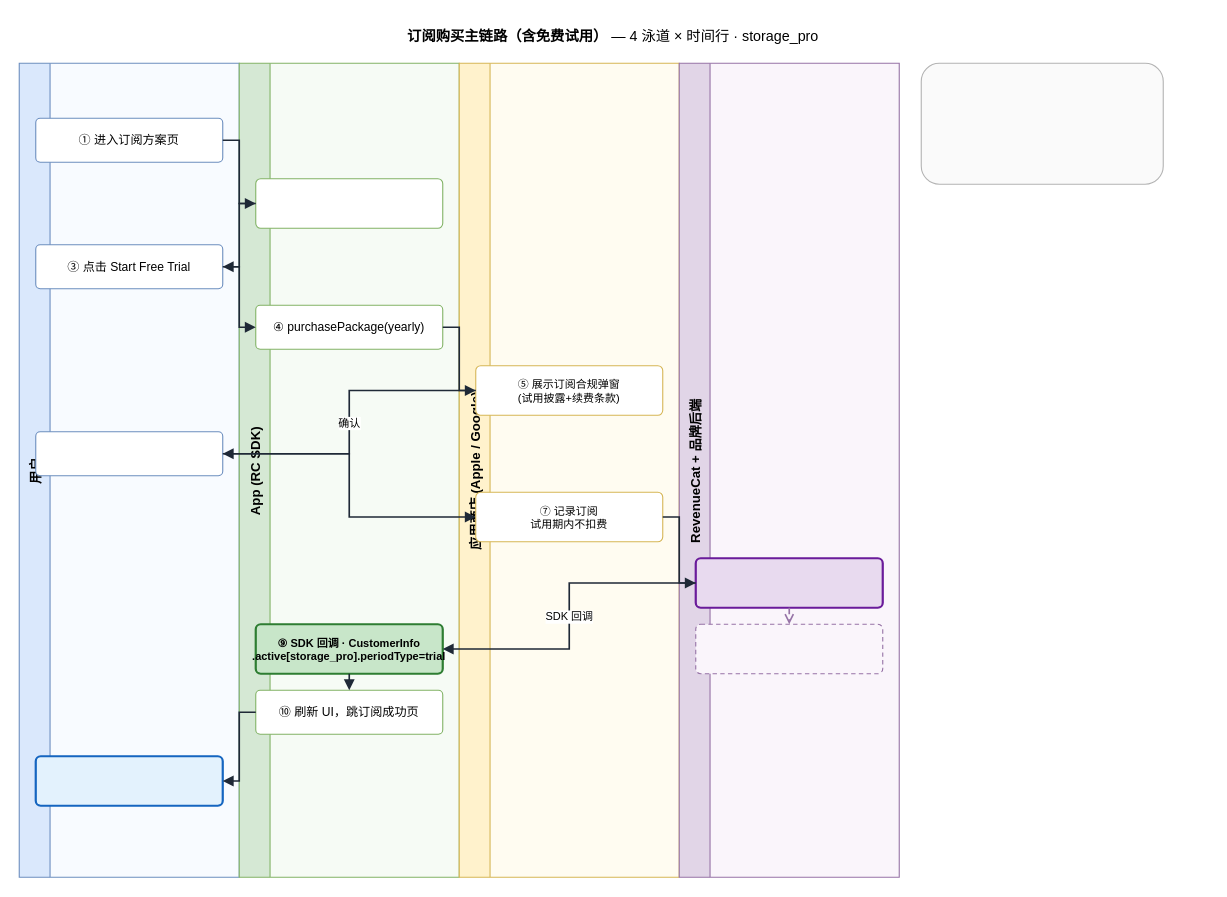
This 1227x897 diagram has some shape labels left out. The centre of each missing label's shape, as x and y in pixels:
"② 展示月/年方案 + 7天试用标签 (getOfferings())" belongs at (349,203).
"⑥ 确认订阅" belongs at (129,453).
"⑧ RC 授予 storage_pro entitlement (试用期)" belongs at (788,582).
"⑧′ 并行 · Webhook INITIAL_PURCHASE → 入库" belongs at (789,648).
"⑪ 看到 试用已开始 + 首次扣费日 ✓" belongs at (128,780).
"图例 ━━ 主链路 ┄┄ Webhook（异步） 粗边框 = 关键节点 ⚠️ 订阅与课程不同：支付成功即权威，无需客户端开通" belongs at (1041,123).
